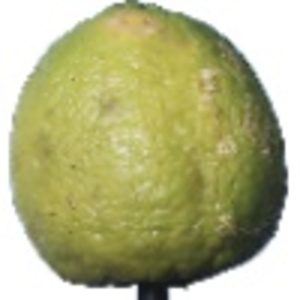limão: (9, 1, 288, 300)
